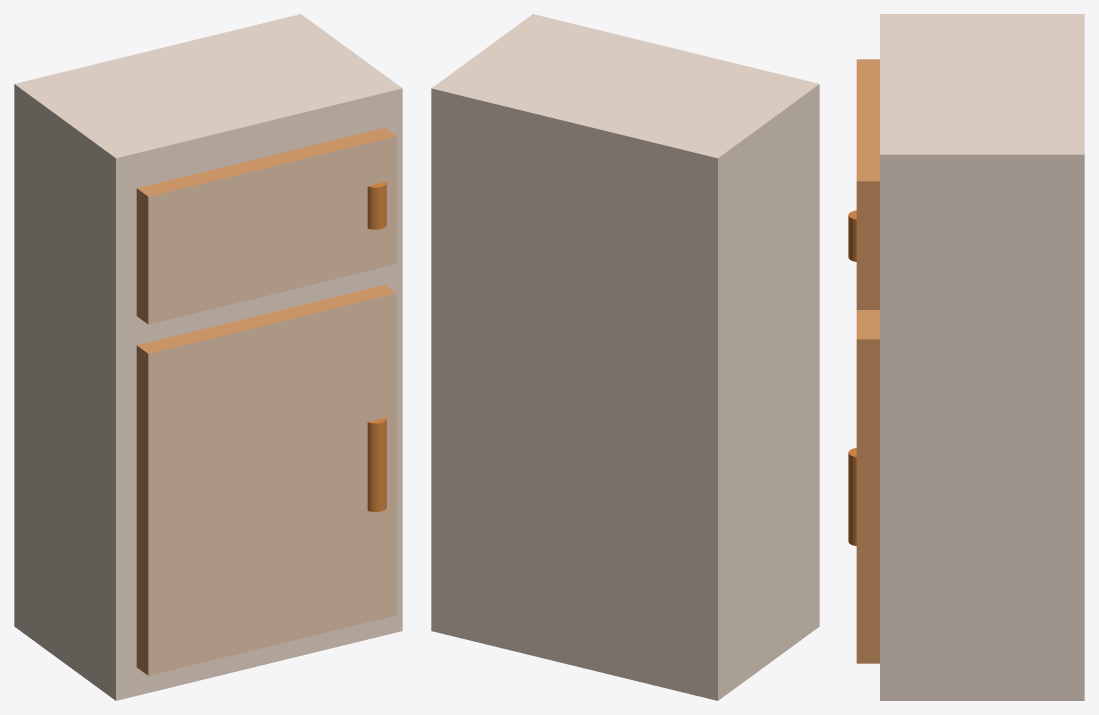
The model's file is Lv1 Fridge.fbx.
3 views of the same model, side by side, from view 1: azimuth 30°, elevation 25°; view 2: azimuth 150°, elevation 25°; view 3: azimuth 270°, elevation 25° (orthographic).
Visible parts, largest first — view 1: Lv1Fridge, FridgeDoor, UpperFridgeDoor; view 2: Lv1Fridge; view 3: Lv1Fridge, FridgeDoor, UpperFridgeDoor.
Boxes of the visible parts, x1,y1,x2,y2 form: Lv1Fridge: (14,14,402,700); FridgeDoor: (136,285,396,675); UpperFridgeDoor: (136,127,396,324); Lv1Fridge: (431,14,819,700); Lv1Fridge: (880,14,1084,700); FridgeDoor: (848,310,879,663); UpperFridgeDoor: (848,59,879,309).
Bounding box in the file's own units: 78.02 × 141 × 55.33.
